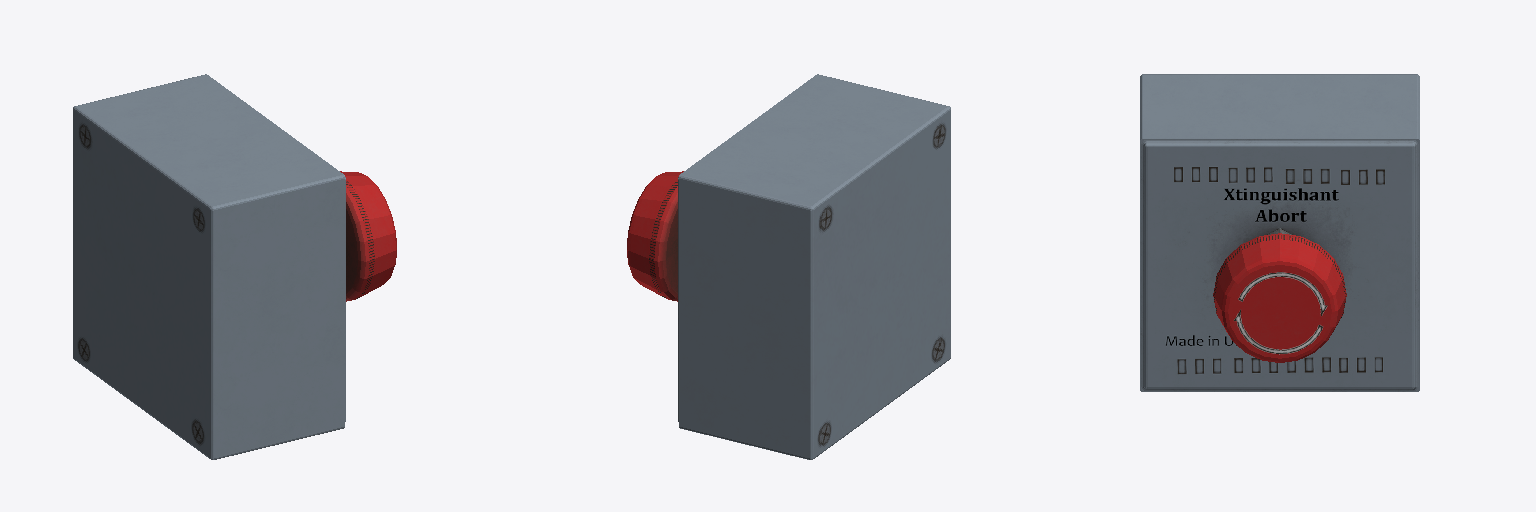
The picture shows the model from 3 angles: view 1: azimuth 30°, elevation 25°; view 2: azimuth 150°, elevation 25°; view 3: azimuth 270°, elevation 25°; orthographic projection.
Parts seen in each view (by area): view 1: obj2, obj1; view 2: obj2, obj1; view 3: obj2, obj1.
Part boxes in pixels (bbox=[...]): obj2: bbox=[73, 74, 345, 459]; obj1: bbox=[340, 171, 396, 301]; obj2: bbox=[678, 74, 950, 459]; obj1: bbox=[627, 171, 683, 301]; obj2: bbox=[1140, 74, 1419, 391]; obj1: bbox=[1213, 228, 1346, 362].
Size of the model in its own units: 1.89 by 2 by 2.
1 materials, 1 textured.